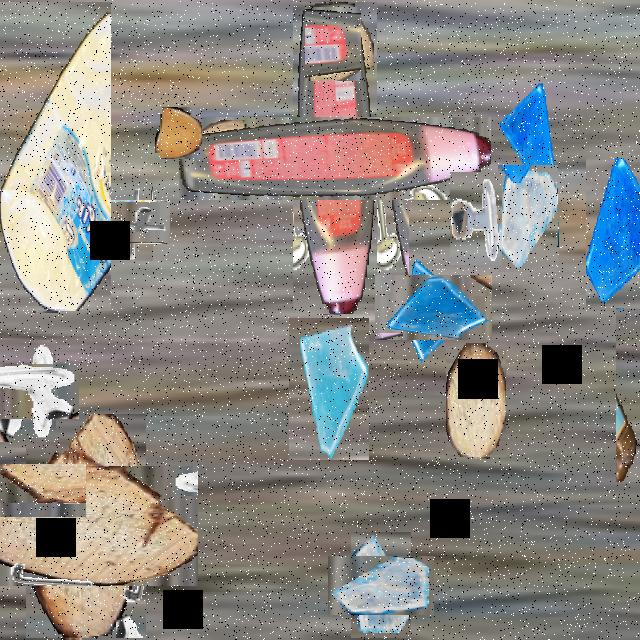glass: (289, 318, 369, 461), (388, 262, 480, 353), (586, 158, 640, 308), (340, 543, 422, 627), (498, 165, 558, 272), (500, 82, 556, 181)
metal: (0, 453, 76, 528), (353, 178, 409, 277), (0, 351, 67, 430), (450, 172, 502, 265), (100, 192, 162, 252), (0, 200, 33, 258)
plastic: (236, 59, 434, 257), (0, 2, 111, 311), (616, 310, 640, 483)
wood: (0, 440, 172, 612), (446, 343, 506, 457), (300, 12, 366, 77), (157, 110, 205, 157)
